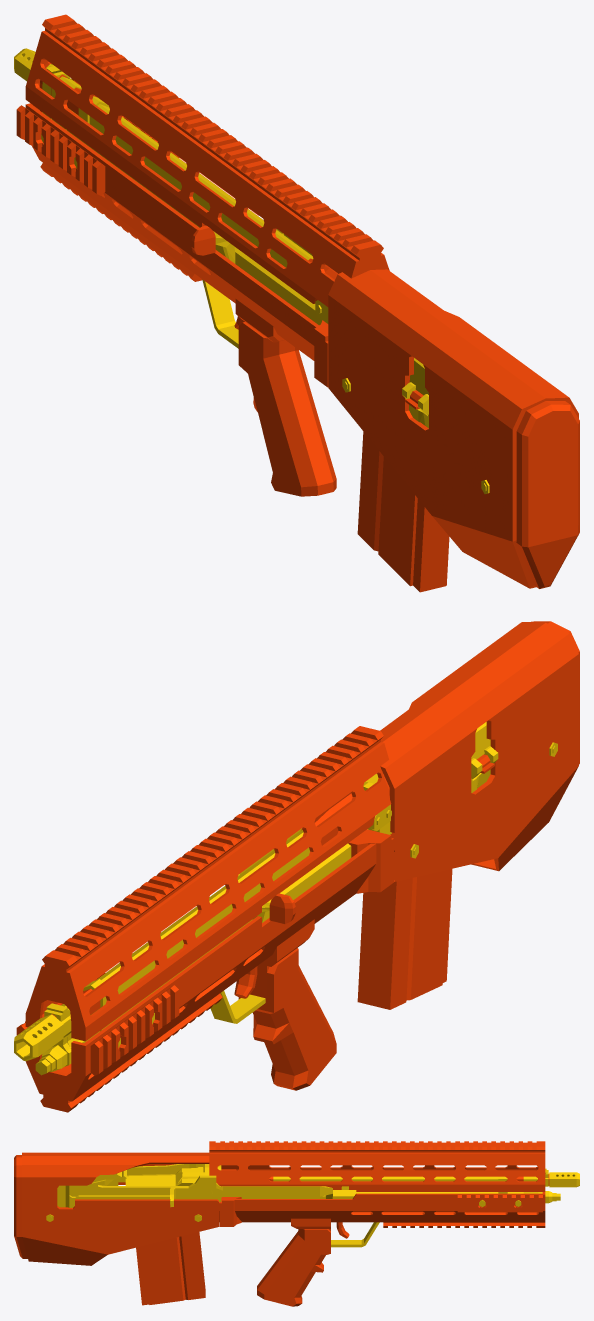
Rendered from Pump_1.fbx.
3 views of the same model, one above another, from view 1: azimuth 30°, elevation 25°; view 2: azimuth 150°, elevation 25°; view 3: azimuth 270°, elevation 25° (orthographic). The views are drawn at different scales.
Visible parts, largest first — view 1: Object_24; view 2: Object_24; view 3: Object_24.
Boxes of the visible parts, x1,y1,x2,y2 form: Object_24: (14,14,579,592); Object_24: (14,621,579,1112); Object_24: (14,1141,579,1306).
Bounding box in the file's own units: 87.43 × 207 × 666.
